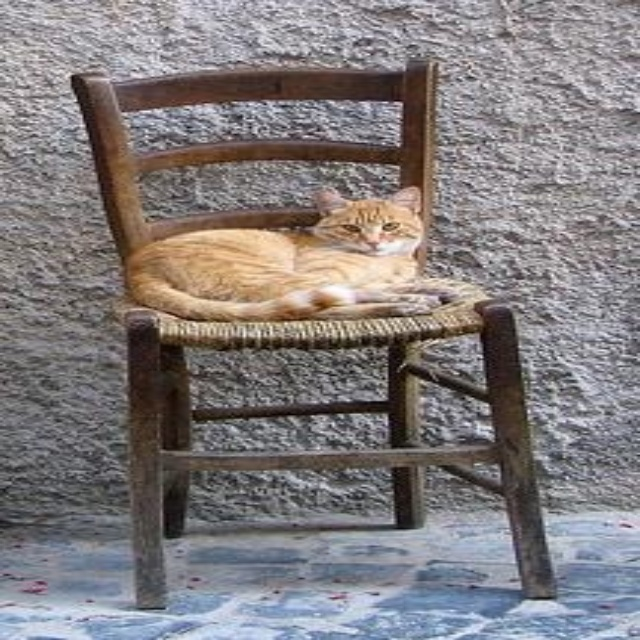obstacle: (124, 300, 554, 606), (71, 59, 436, 287)
